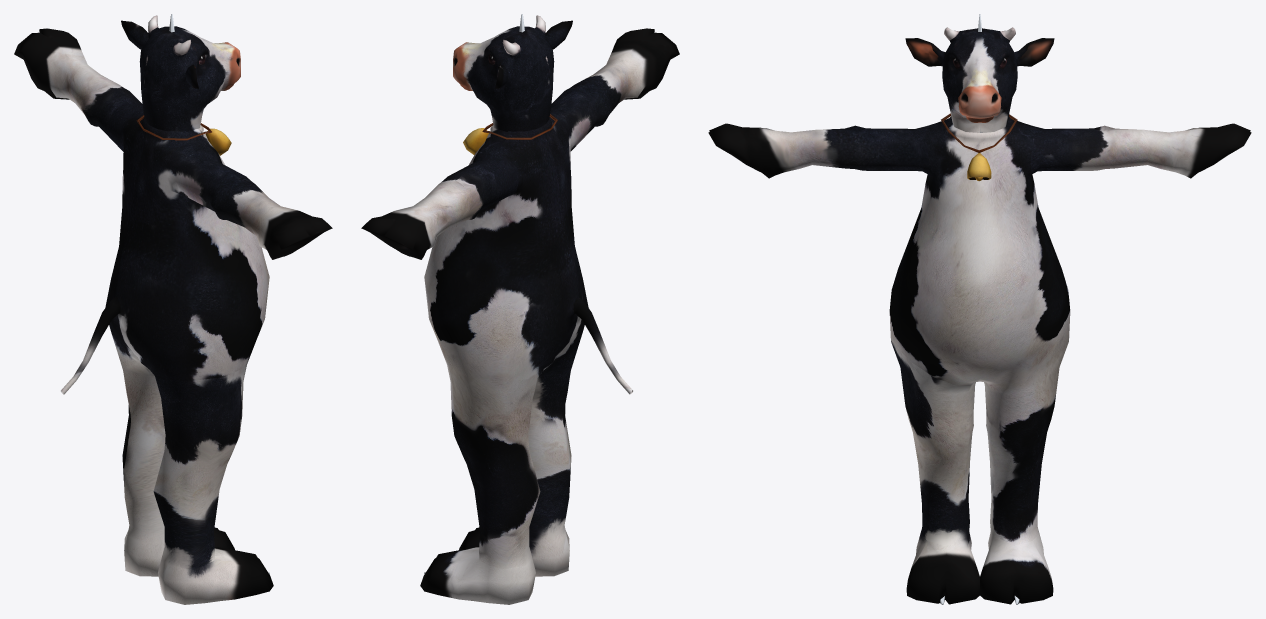
File: cow_suit.glb
The picture shows the model from 3 angles, left to right: view 1: azimuth 30°, elevation 25°; view 2: azimuth 150°, elevation 25°; view 3: azimuth 270°, elevation 25°; orthographic projection. The views are drawn at different scales.
Visible parts, largest first — view 1: Object_2, Object_3; view 2: Object_2, Object_3; view 3: Object_2, Object_3.
Boxes of the visible parts, left/top/right/bottom form: Object_2: left=61, top=112, right=273, bottom=604; Object_3: left=14, top=15, right=332, bottom=259; Object_2: left=420, top=112, right=632, bottom=604; Object_3: left=361, top=15, right=679, bottom=259; Object_2: left=889, top=117, right=1070, bottom=604; Object_3: left=708, top=27, right=1251, bottom=181.
Bounding box in the file's own units: 0.7393 × 2.03 × 1.79.
Materials: 3 (2 with a texture image).
